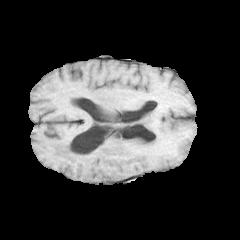glioma: (48, 114, 190, 170)
